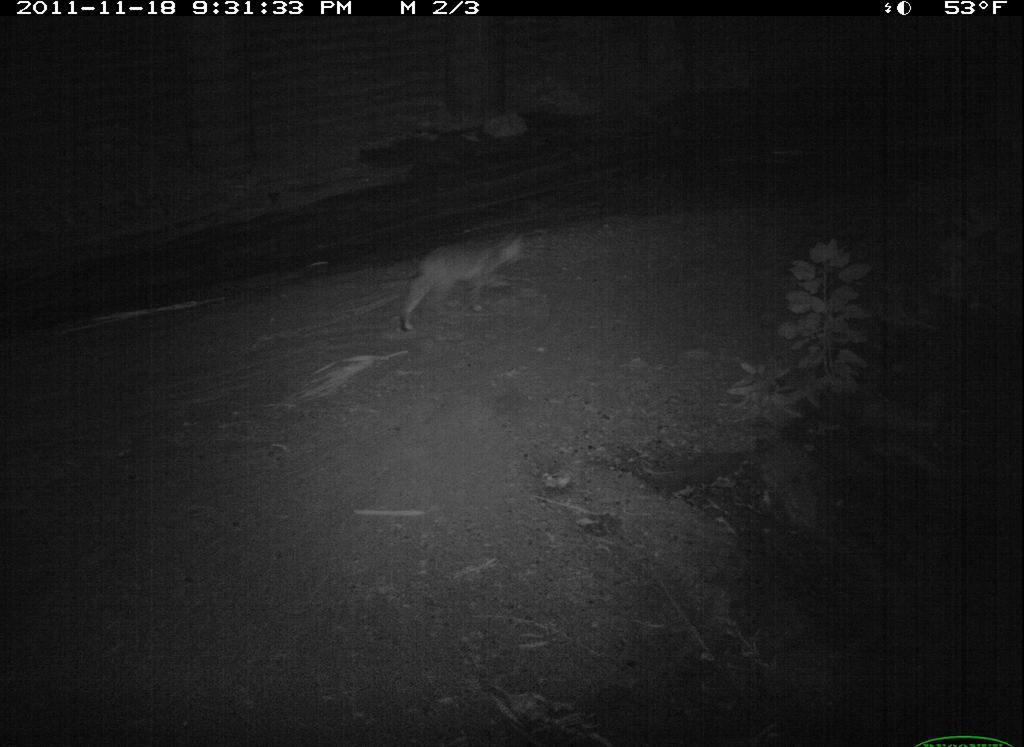bobcat: (389, 230, 541, 343)
